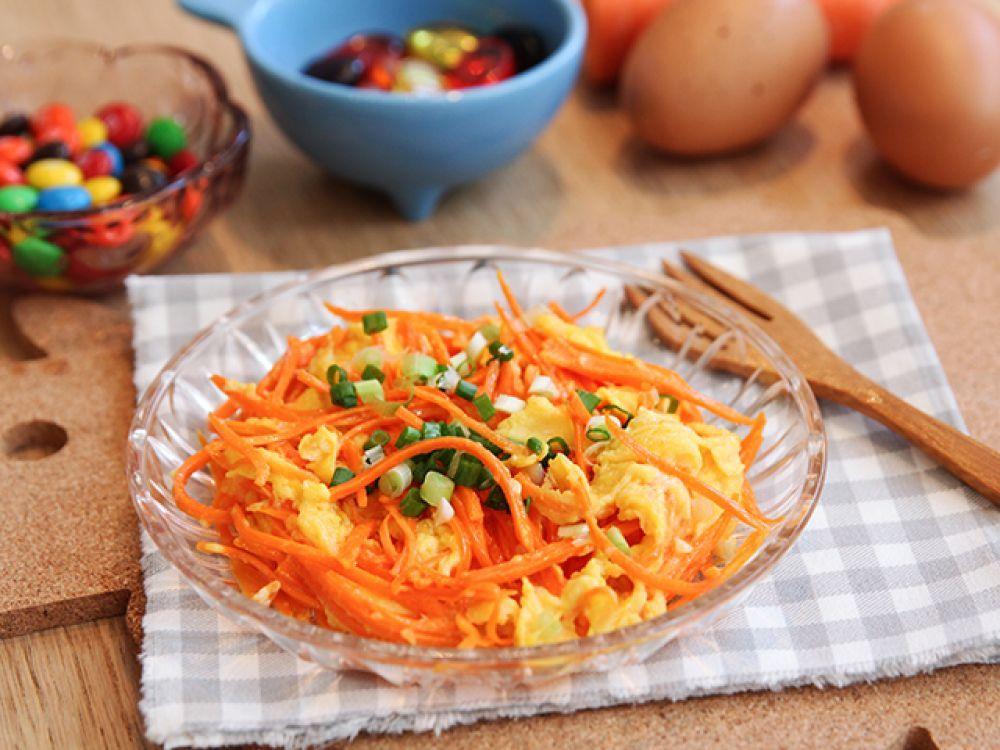carrot_eggs: (208, 291, 782, 649), (264, 370, 532, 586), (480, 351, 685, 627)
